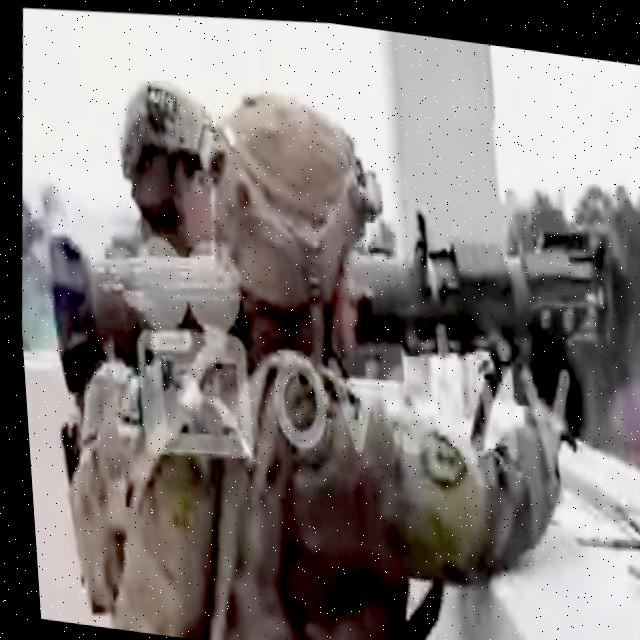rocket: (347, 201, 637, 363)
